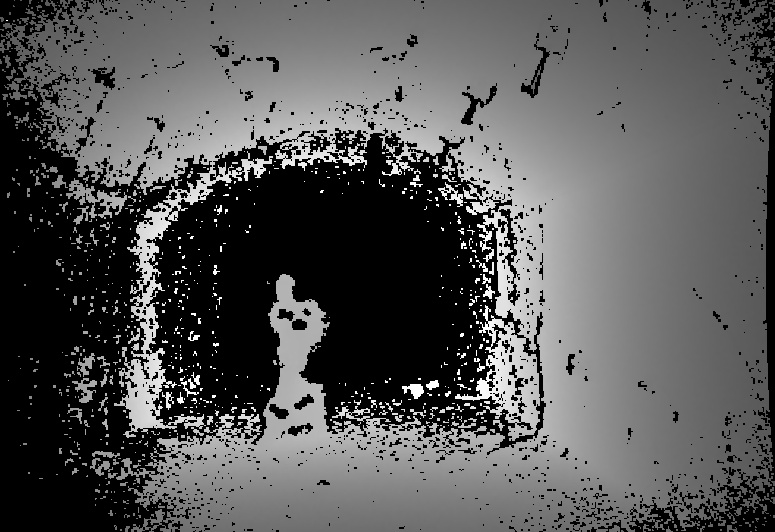person: (255, 272, 328, 445)
